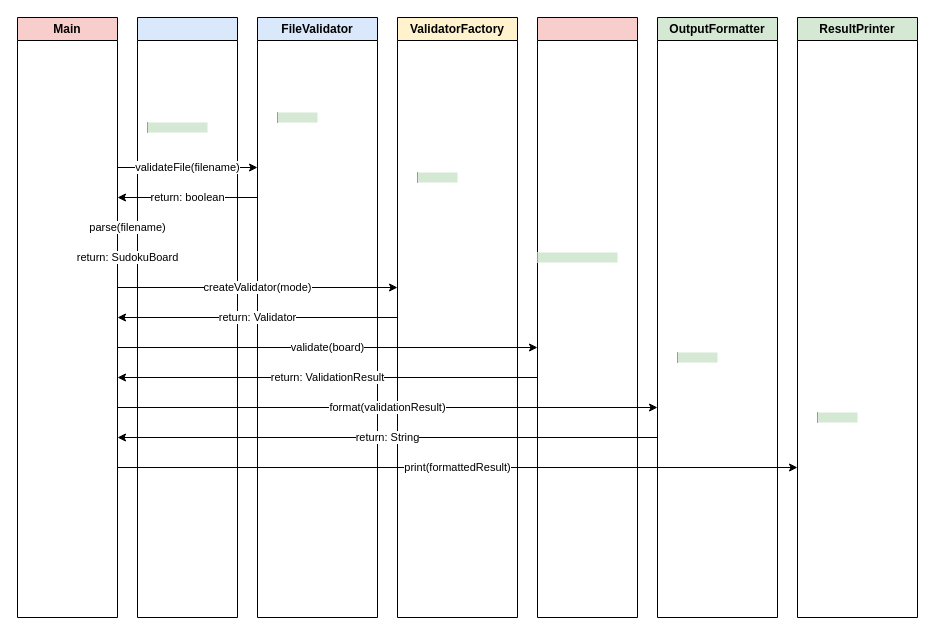
The diagram is 935 pixels wide and 635 high, and some of its shapes have lost their labels. Each missing label, with the centre of its shape:
"CSVParser" goes at [187,317].
"Validator" goes at [587,317].
